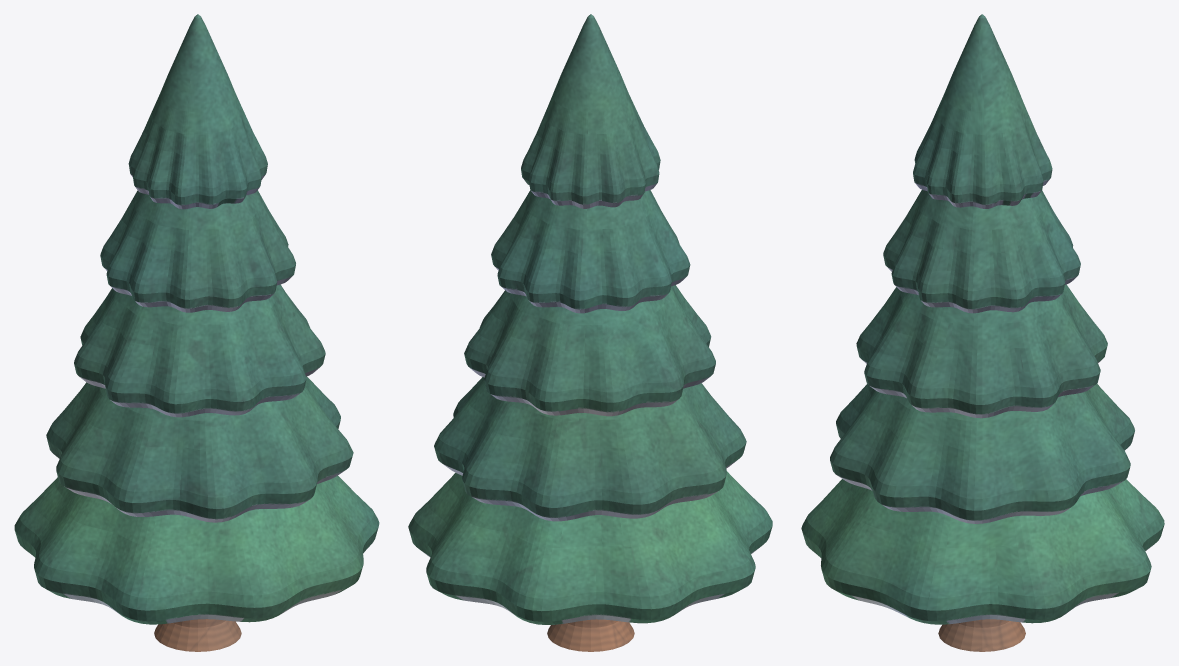
Rendered from WM_Pine_B.fbx.
3 views of the same model, side by side, from view 1: azimuth 30°, elevation 25°; view 2: azimuth 150°, elevation 25°; view 3: azimuth 270°, elevation 25° (orthographic).
Visible parts, largest first — view 1: WM_Pine_B_LOD0; view 2: WM_Pine_B_LOD0; view 3: WM_Pine_B_LOD0.
Boxes of the visible parts, x1,y1,x2,y2 form: WM_Pine_B_LOD0: [14, 14, 379, 651]; WM_Pine_B_LOD0: [408, 14, 772, 651]; WM_Pine_B_LOD0: [801, 14, 1164, 651].
Size of what is drawn, in the model's own units: 1.98 by 3.74 by 1.99.
